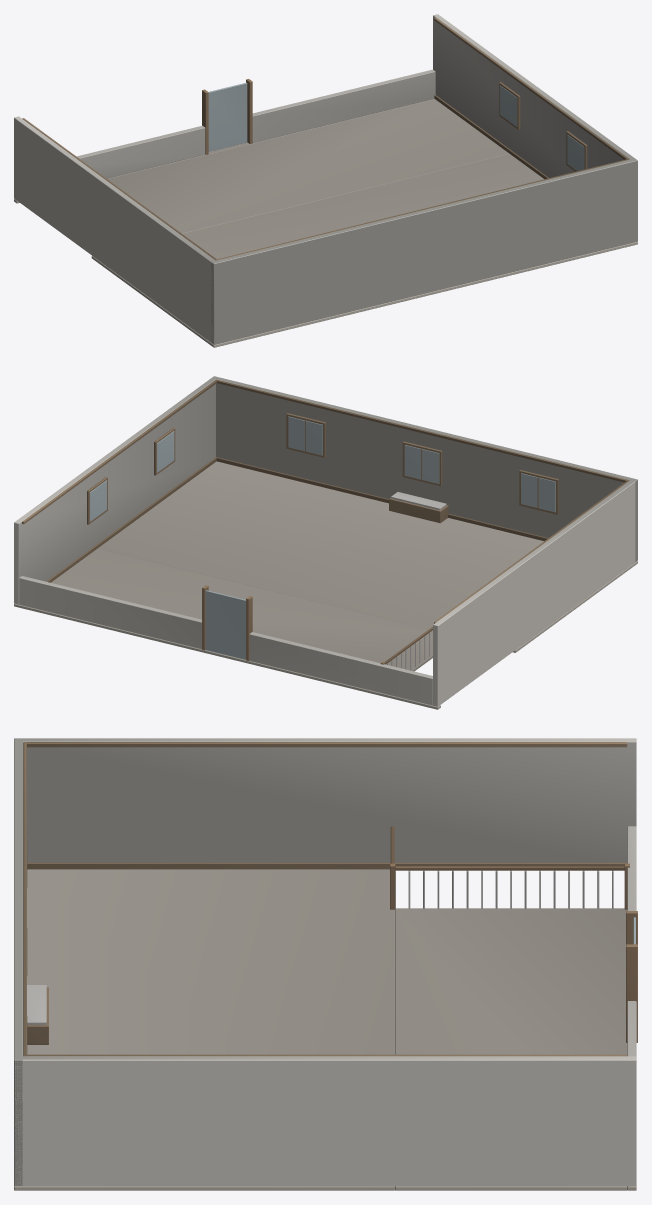
Rendered from home_upper_room__base.glb.
3 renders of one model, top to bottom at view 1: azimuth 30°, elevation 25°; view 2: azimuth 150°, elevation 25°; view 3: azimuth 270°, elevation 25°, orthographic. The views are drawn at different scales.
Size of the model in its own units: 16.4 by 3.11 by 13.43.
